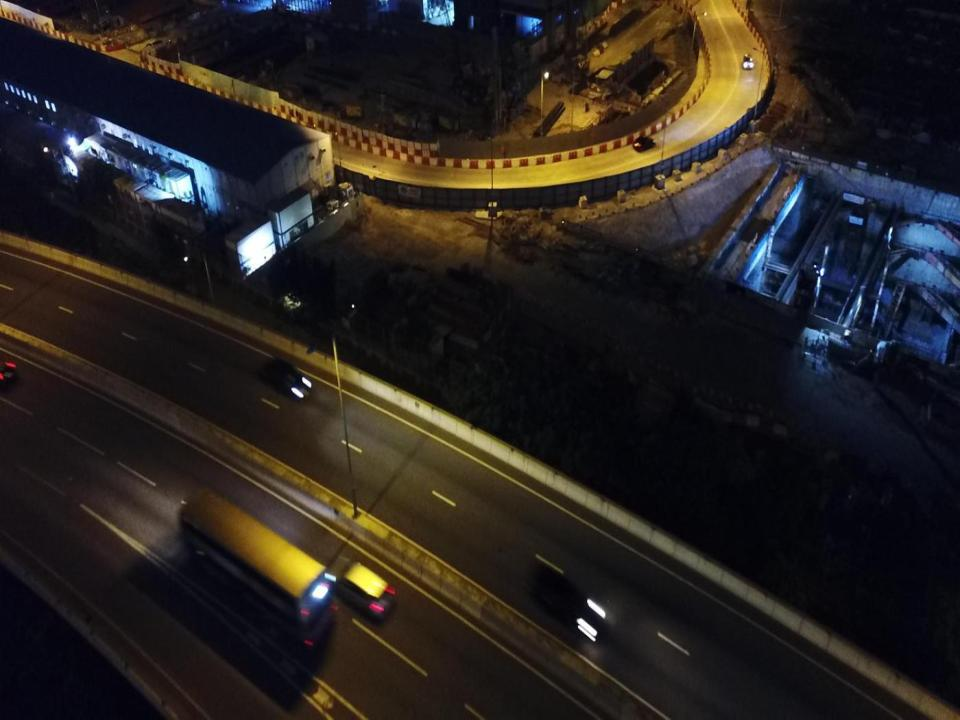bus: (178, 484, 335, 652)
car: (527, 564, 606, 643), (323, 553, 396, 622), (259, 356, 312, 400), (633, 136, 655, 152), (742, 53, 754, 69)
